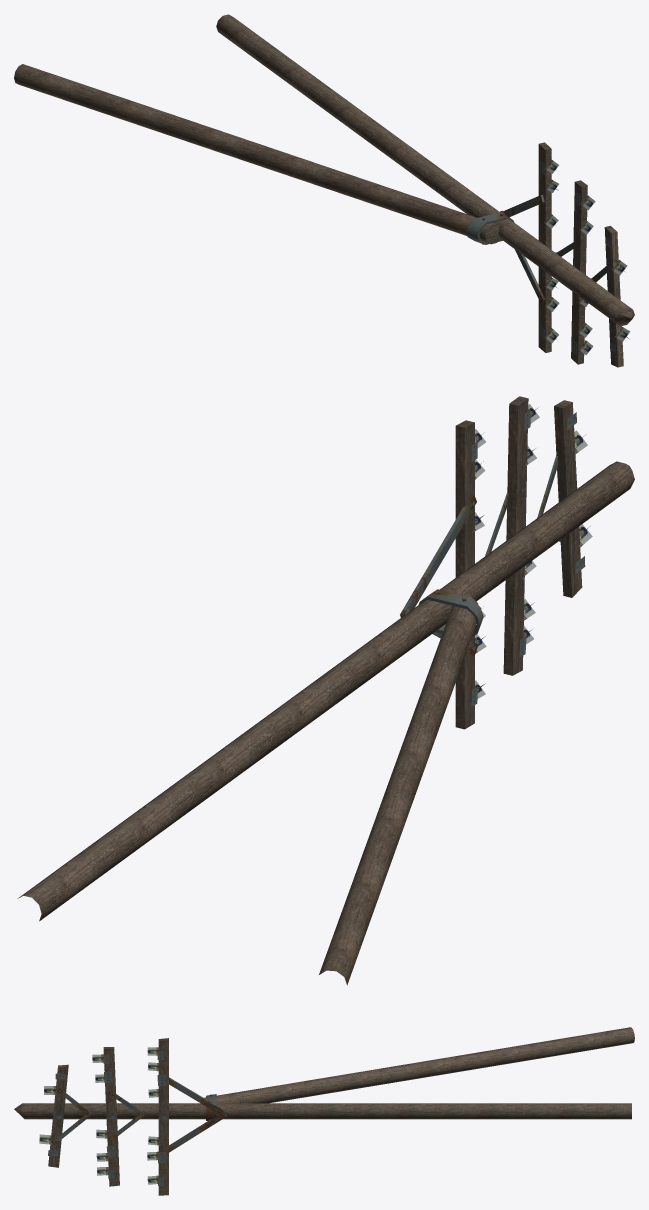
Rendered from powerpole02.glb.
3 renders of one model, top to bottom at view 1: azimuth 30°, elevation 25°; view 2: azimuth 150°, elevation 25°; view 3: azimuth 270°, elevation 25°, orthographic. The views are drawn at different scales.
Size of the model in its own units: 131 by 110 by 400.
1 material, 1 textured.
